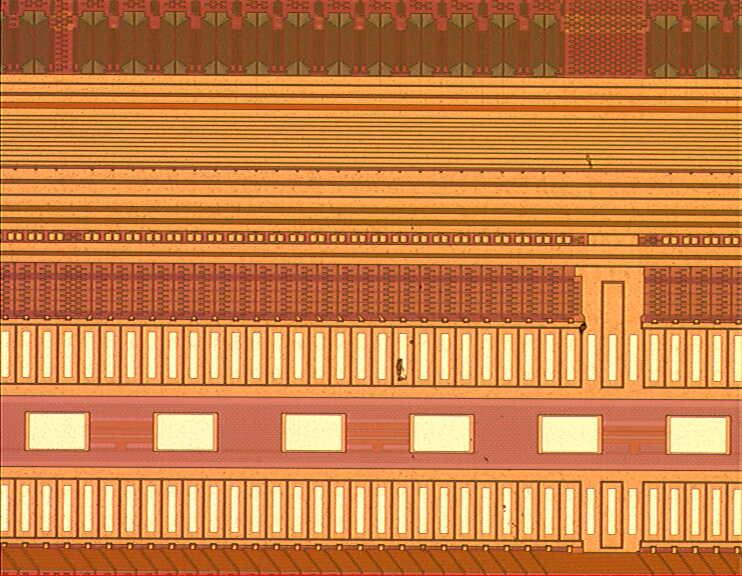PO CONTAMINATION: (393, 150, 601, 535)
